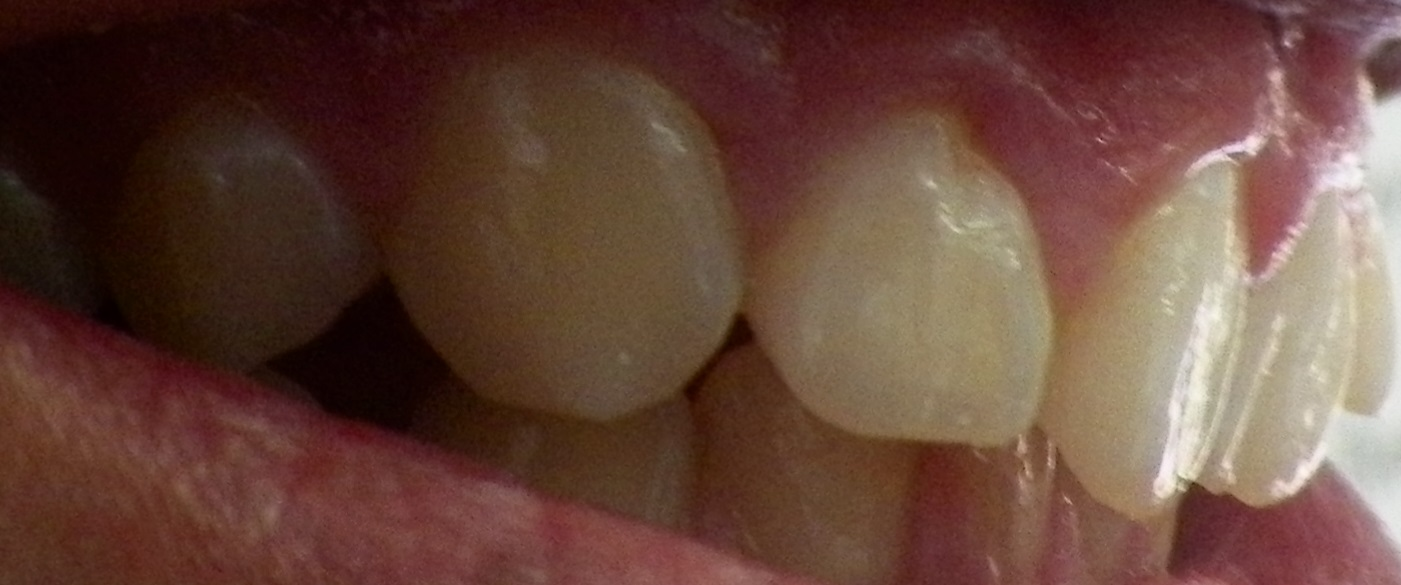boca: (77, 87, 1397, 563)
